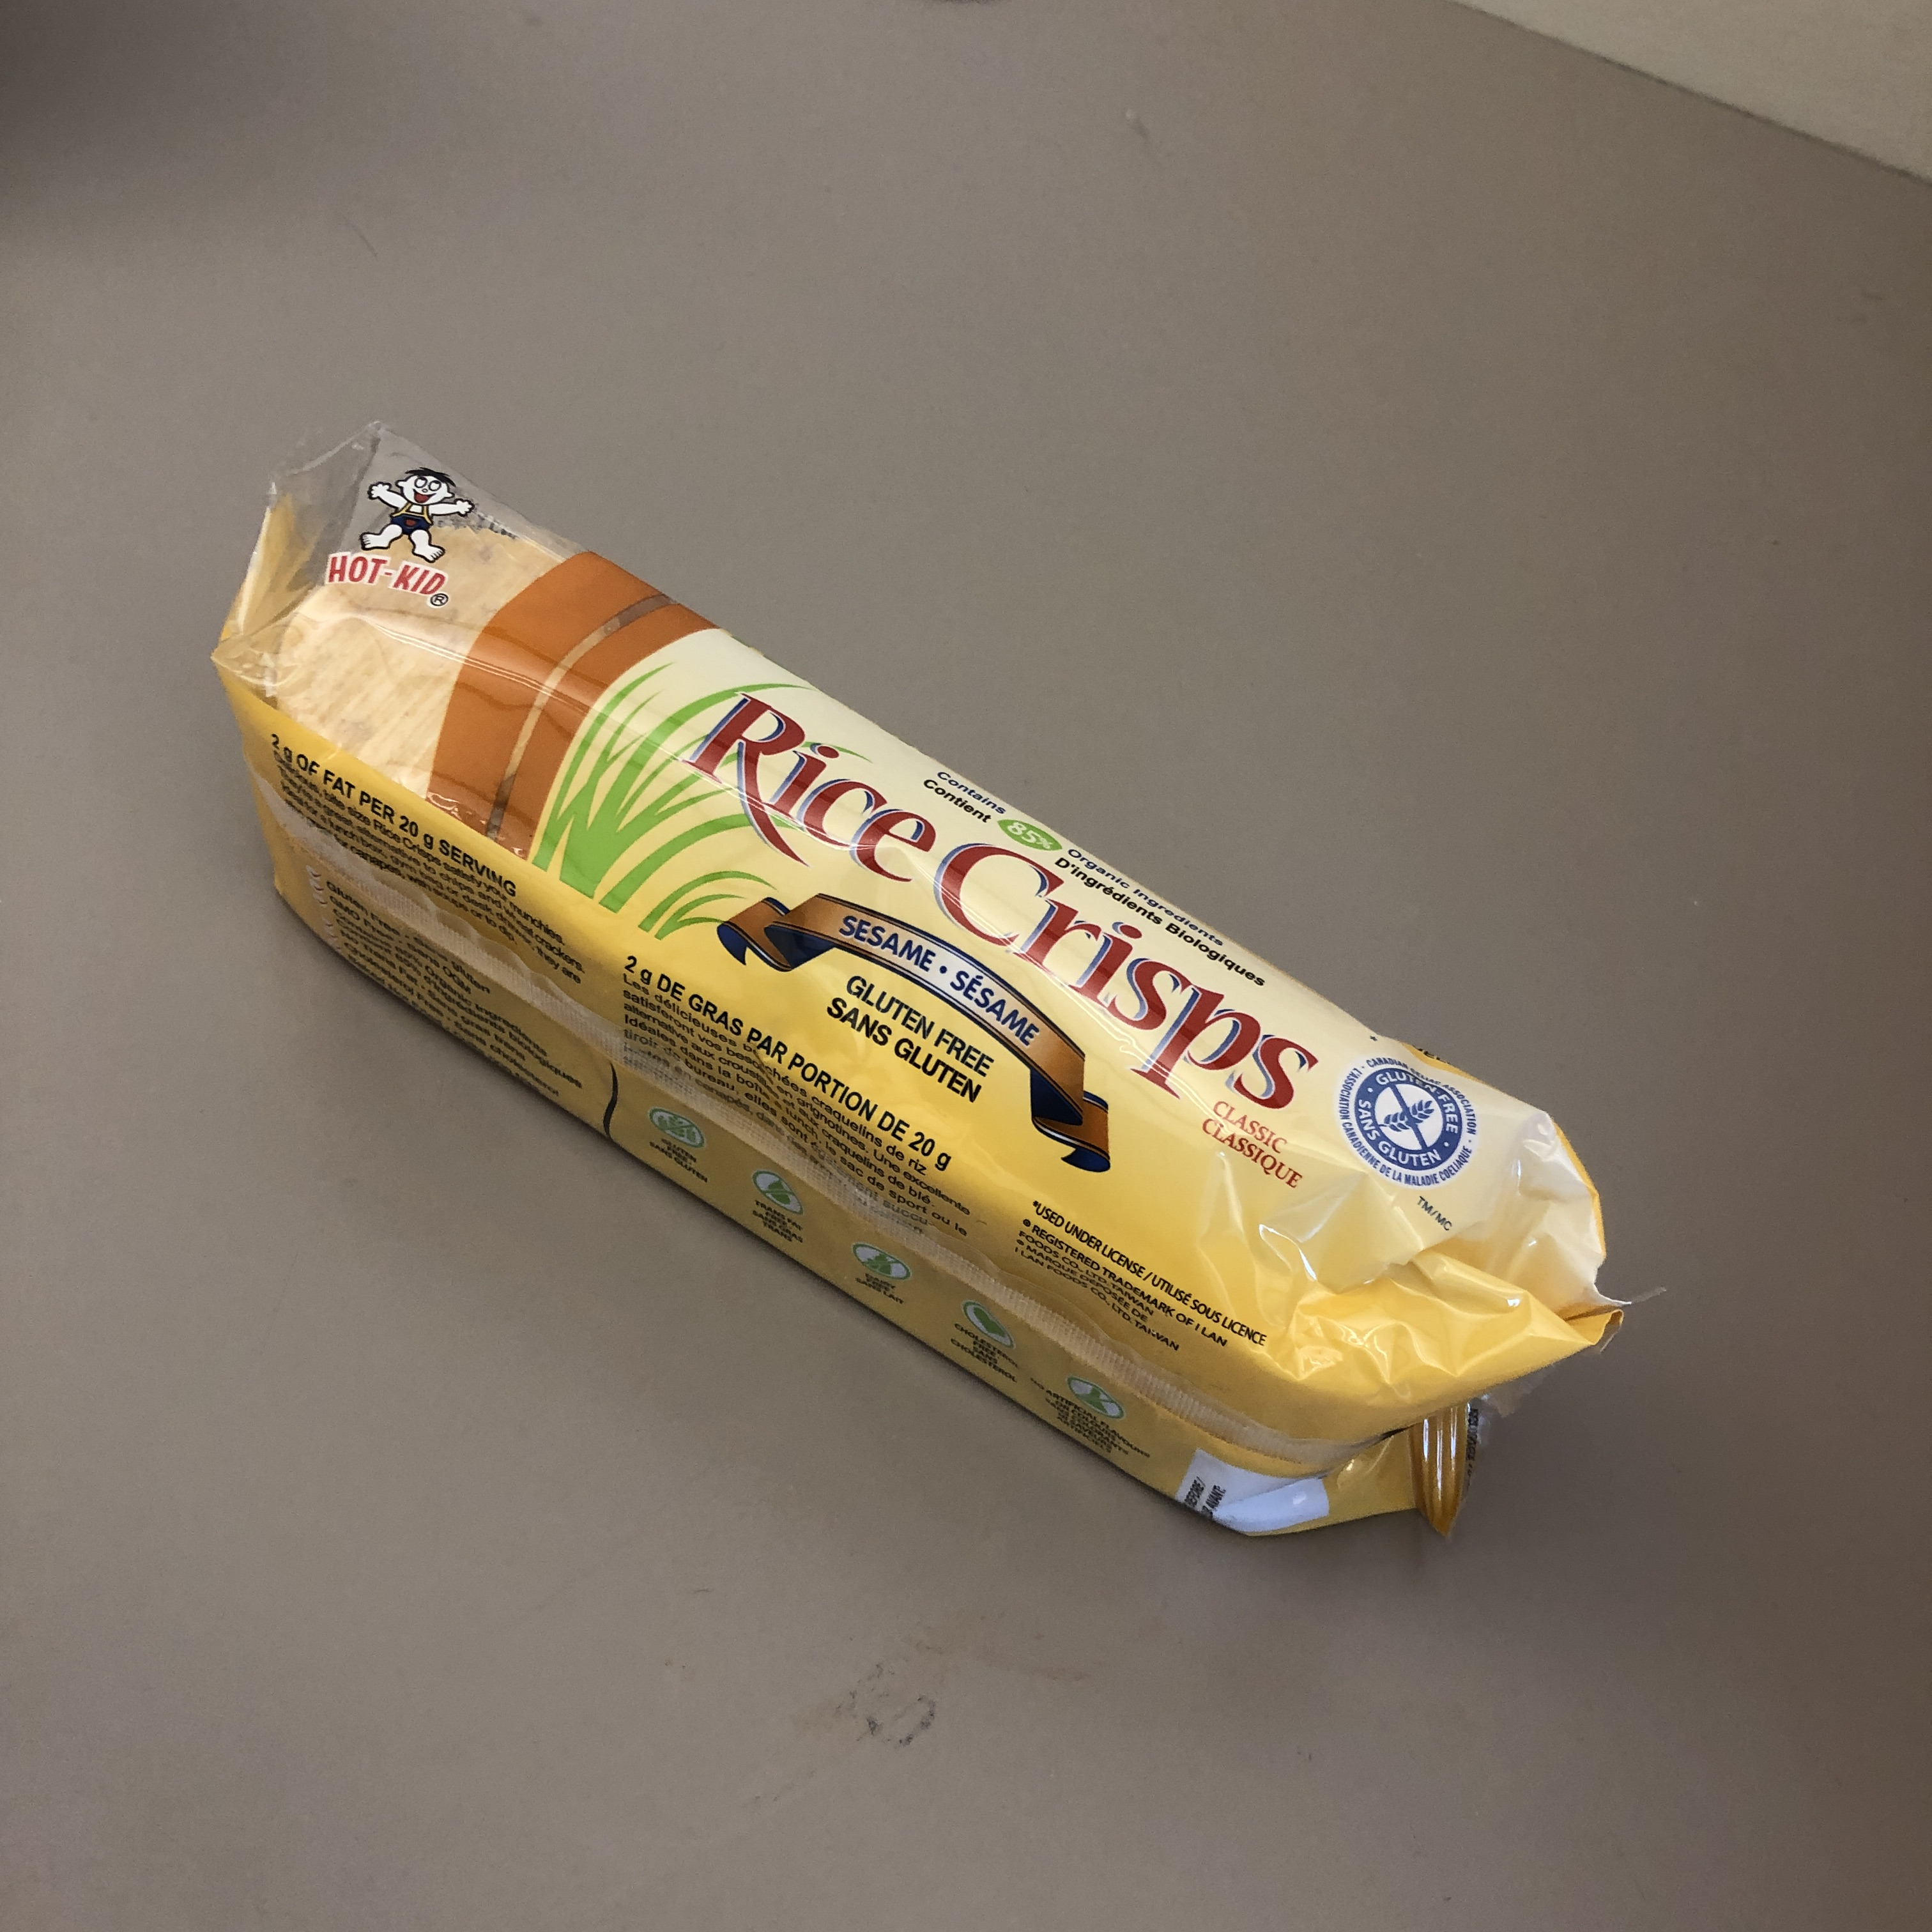hot_kid_rice_crisps_sesame: (601, 421, 1411, 1696)
